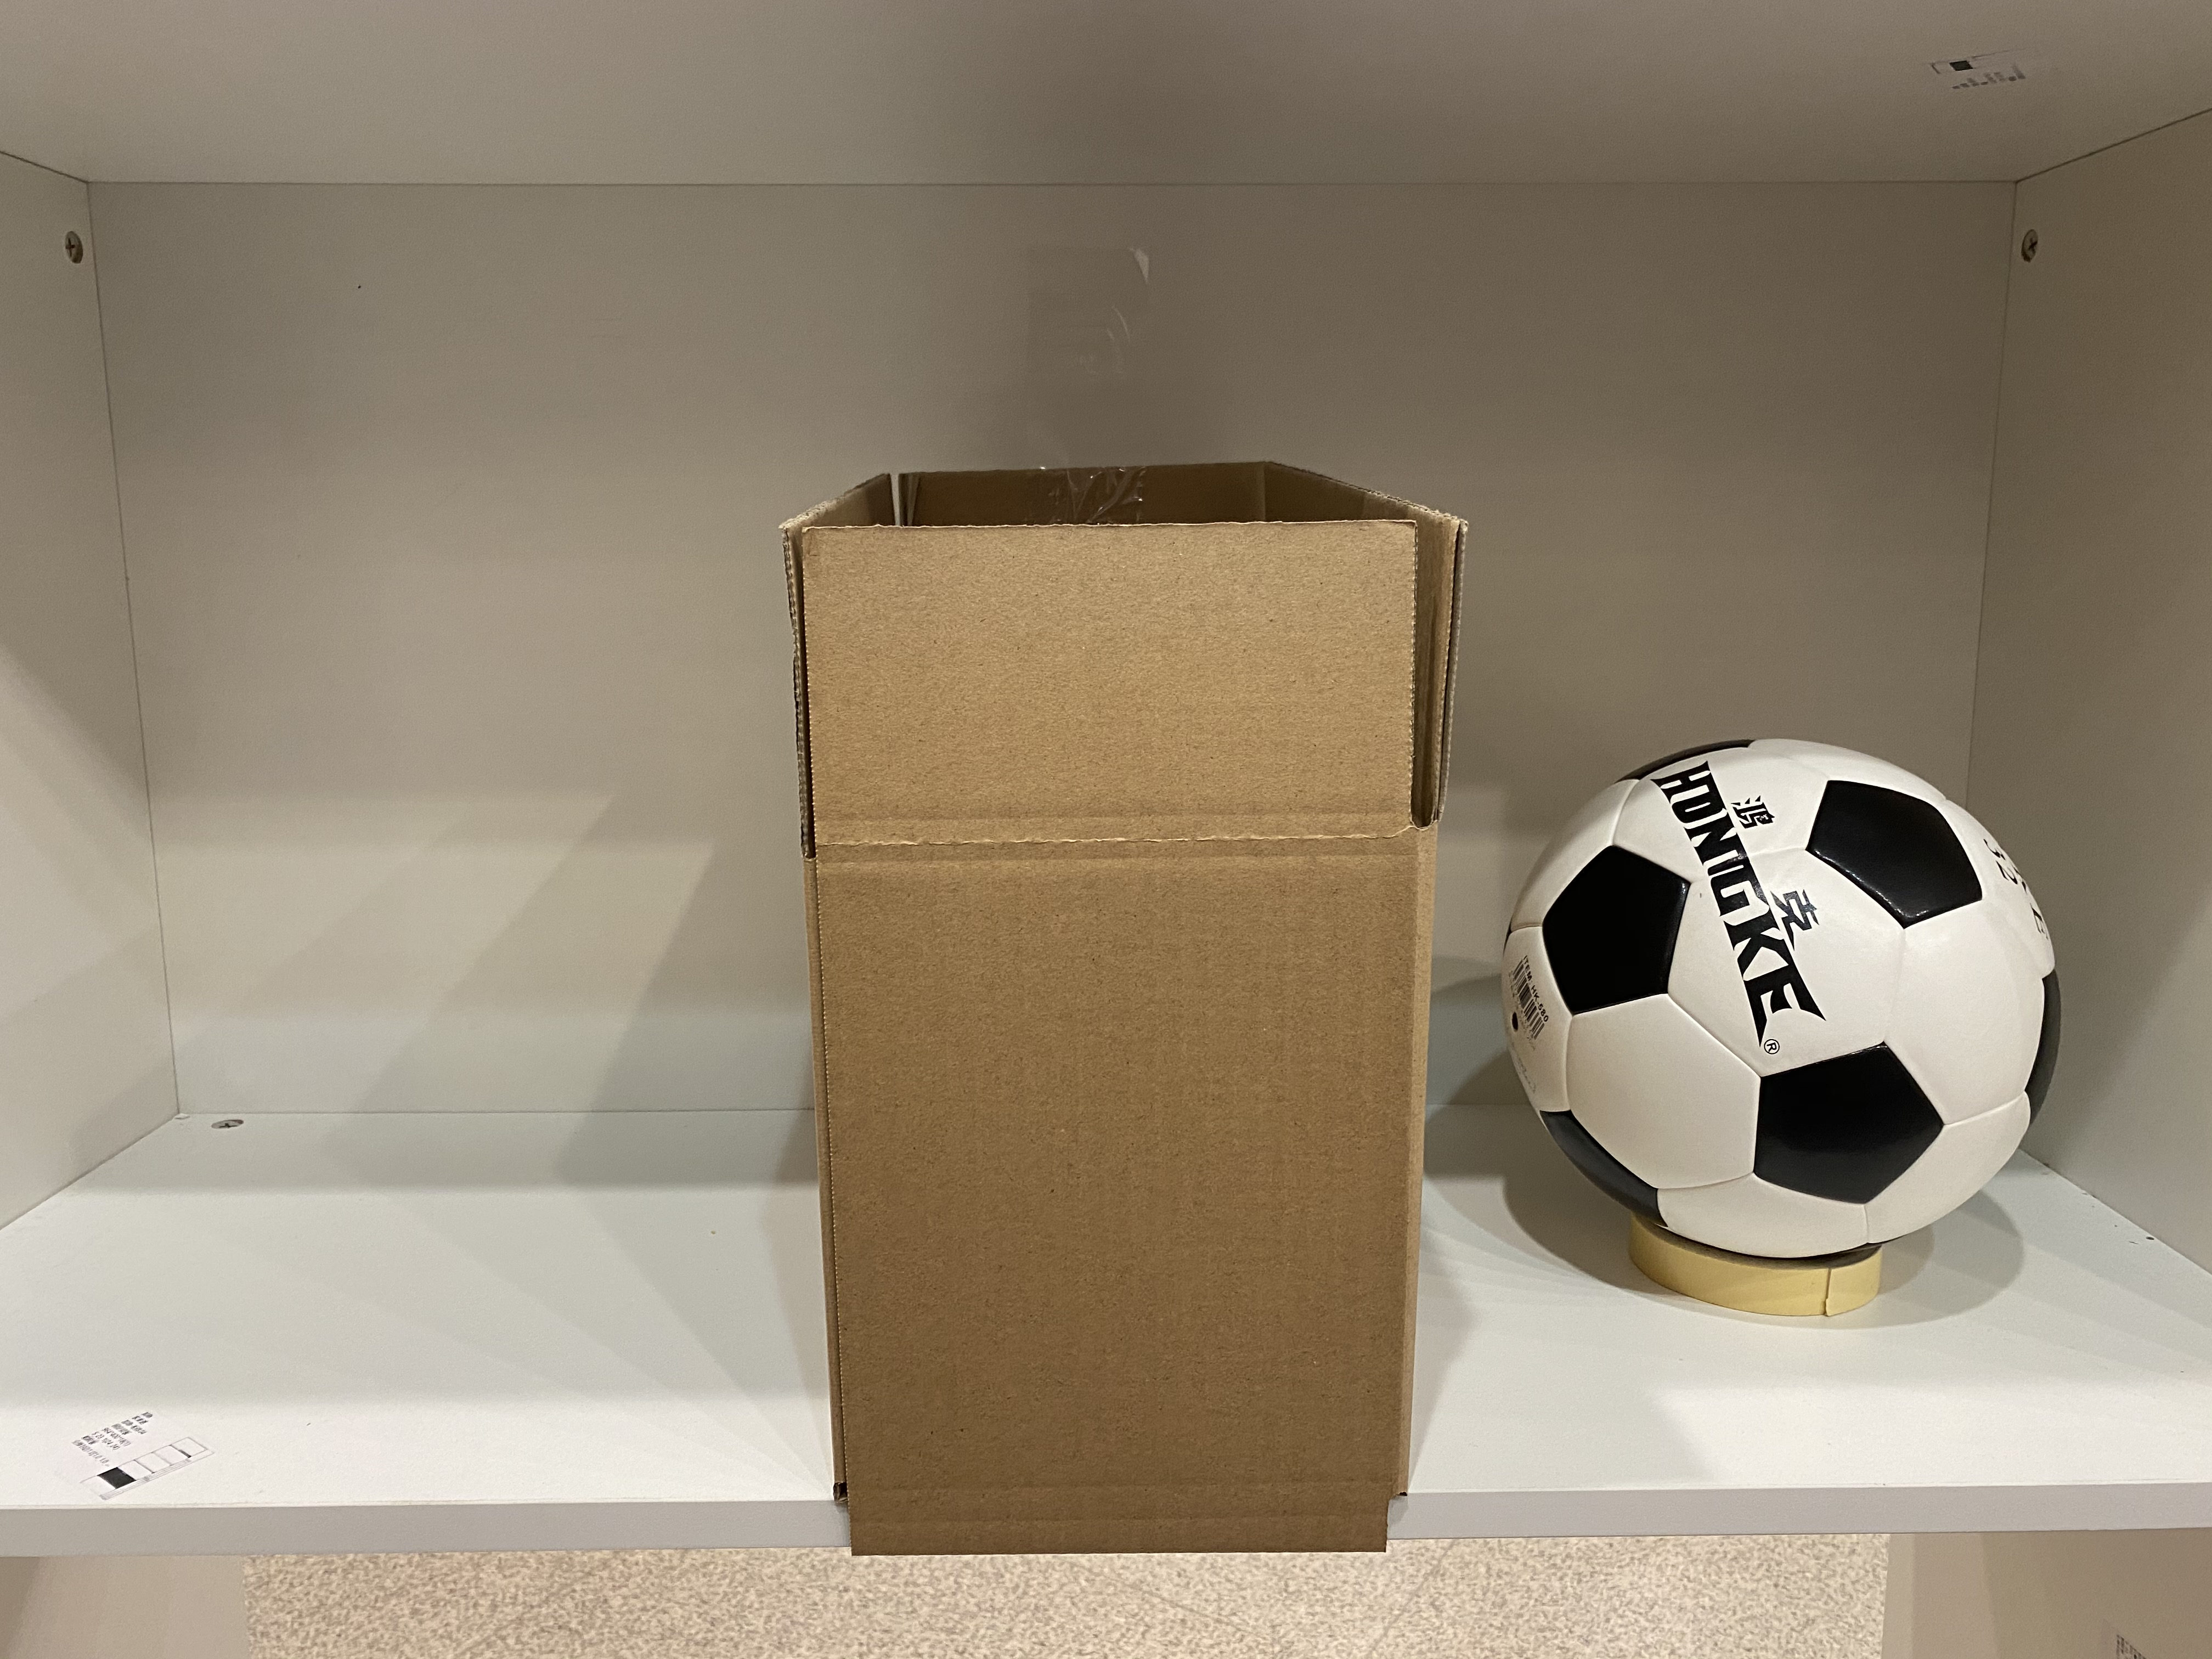football: (1501, 744, 2054, 1243)
